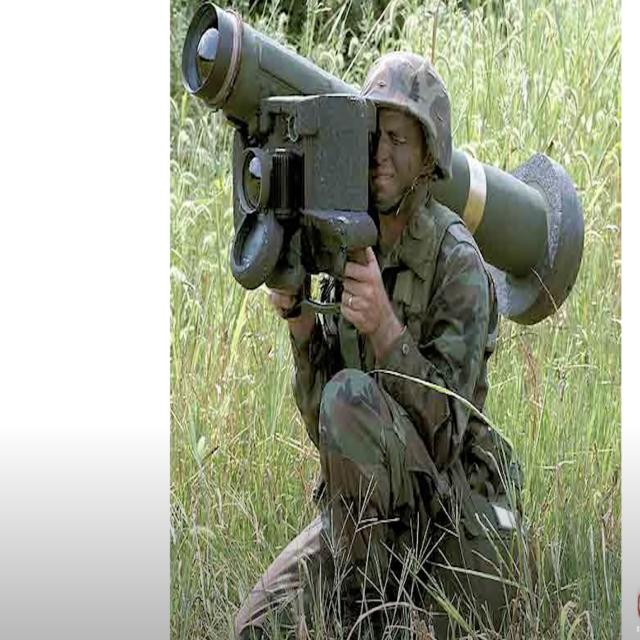bazooka: (171, 1, 616, 386)
